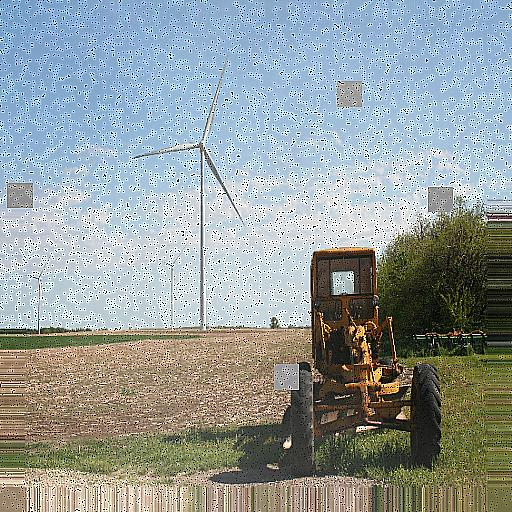wind turbine: (129, 56, 246, 328), (150, 238, 192, 330), (22, 256, 54, 329)
